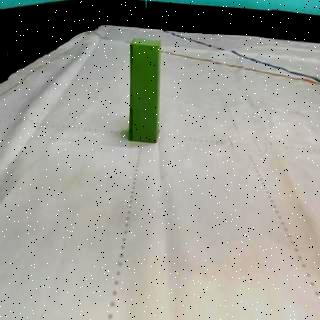greenbox: (126, 36, 164, 144)
